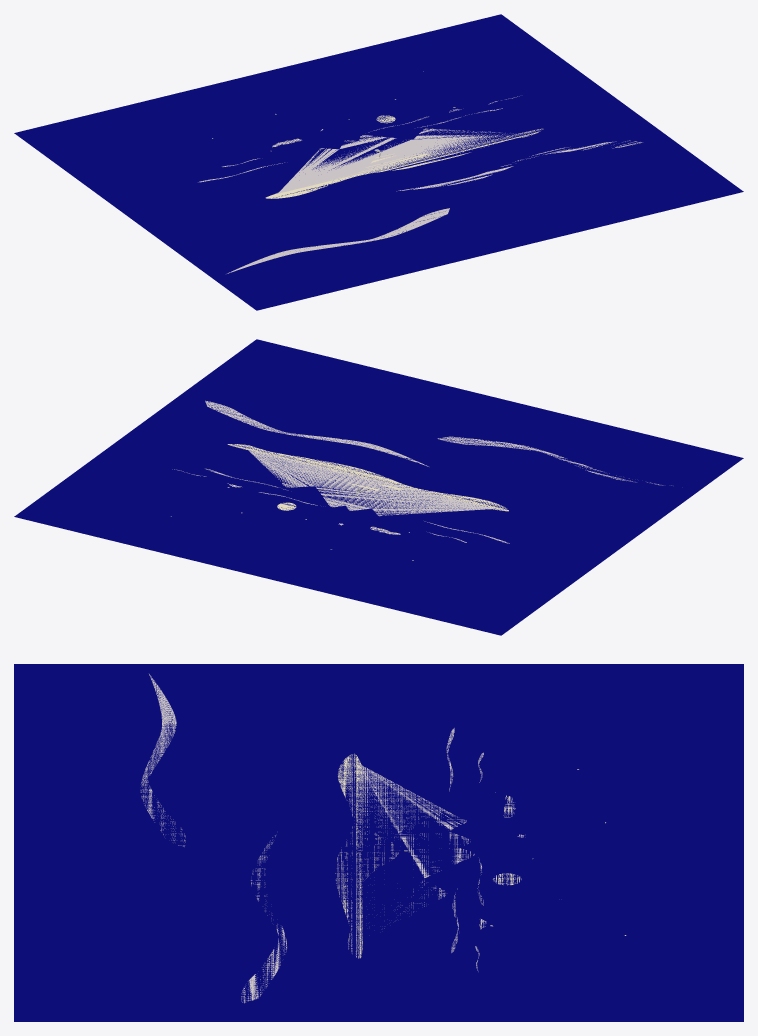
Rendered from Mountains_Intro.fbx.
3 views of the same model, one above another, from view 1: azimuth 30°, elevation 25°; view 2: azimuth 150°, elevation 25°; view 3: azimuth 270°, elevation 25° (orthographic). The views are drawn at different scales.
Parts seen in each view (by area): view 1: Curve, Curve.001, Curve.002, Curve.035, Curve.034; view 2: Curve, Curve.001, Curve.002, Curve.034, Curve.035; view 3: Curve, Curve.001, Curve.002, Curve.035, Curve.034.
Boxes of the visible parts, box(x1,y1,x2,y2) form: Curve: box(14, 14, 743, 310); Curve.001: box(278, 128, 513, 193); Curve.002: box(265, 128, 543, 198); Curve.035: box(227, 208, 449, 273); Curve.034: box(396, 140, 642, 191); Curve: box(14, 339, 743, 635); Curve.001: box(246, 448, 493, 516); Curve.002: box(227, 444, 508, 511); Curve.034: box(205, 400, 428, 466); Curve.035: box(437, 436, 671, 485); Curve: box(14, 664, 743, 1021); Curve.001: box(358, 763, 474, 928); Curve.002: box(335, 753, 362, 958); Curve.035: box(140, 674, 185, 846); Curve.034: box(241, 835, 286, 1003).
Bounding box in the file's own units: 73.25 × 8.18e-05 × 63.19.
